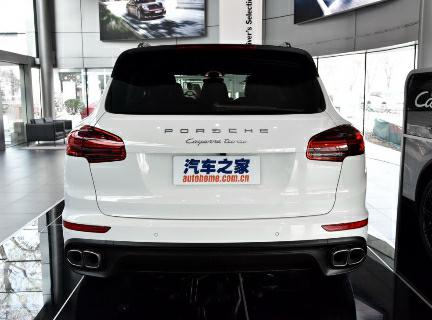保时捷-718: (60, 41, 375, 278)
